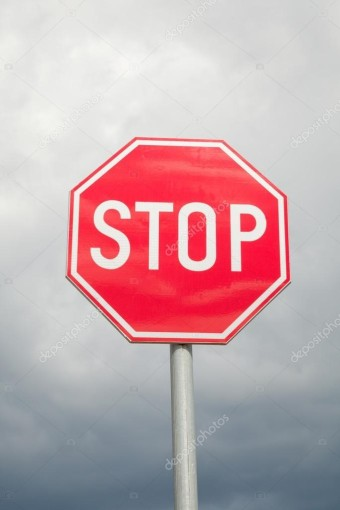SS: (69, 130, 290, 346)
